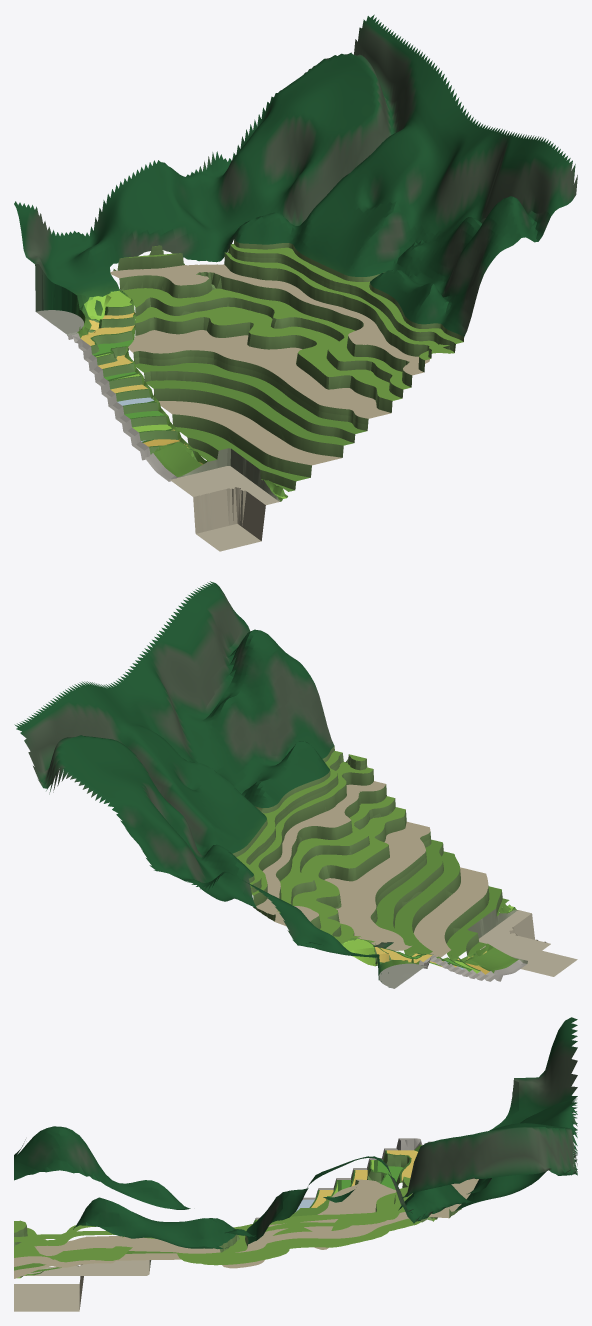
File: payo_land_xm1_ym1.glb
The picture shows the model from 3 angles, top to bottom: view 1: azimuth 30°, elevation 25°; view 2: azimuth 150°, elevation 25°; view 3: azimuth 270°, elevation 25°; orthographic projection. The views are drawn at different scales.
Visible parts, largest first — view 1: payo_land_xm1_ym1; view 2: payo_land_xm1_ym1; view 3: payo_land_xm1_ym1.
Part boxes in pixels (left/top/right/bottom): payo_land_xm1_ym1: left=14, top=14, right=577, bottom=551; payo_land_xm1_ym1: left=14, top=581, right=577, bottom=988; payo_land_xm1_ym1: left=14, top=1017, right=577, bottom=1311.
Size of the model in its own units: 258 by 206 by 258.
